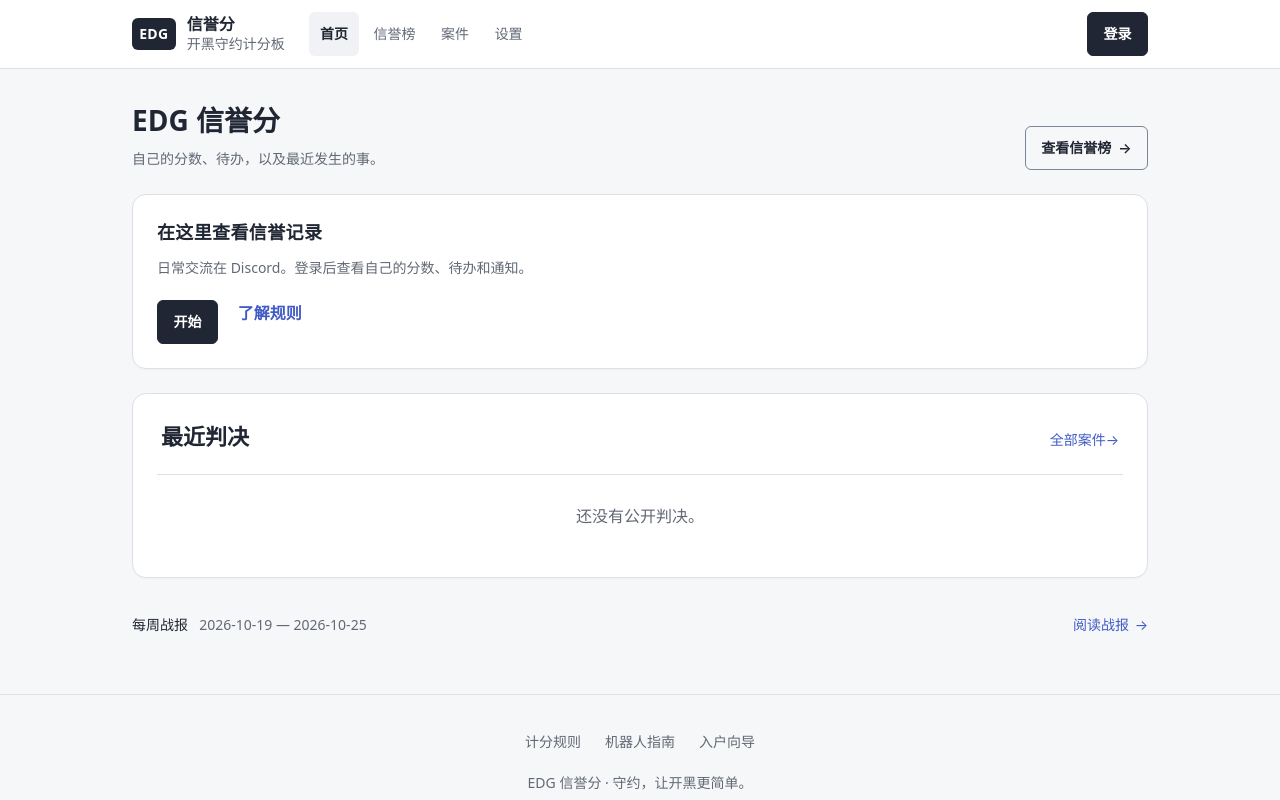
Test case: App — separated overview and board › 了解规则 opens the rules destination and focuses its title
The image size is (1280, 800).
What coordinates should you click on to do the following:
click the link "了解规则"
I would click on:
 (270, 313)
Its box is top-left (238, 302), bottom-right (302, 324).
(page scrolled)
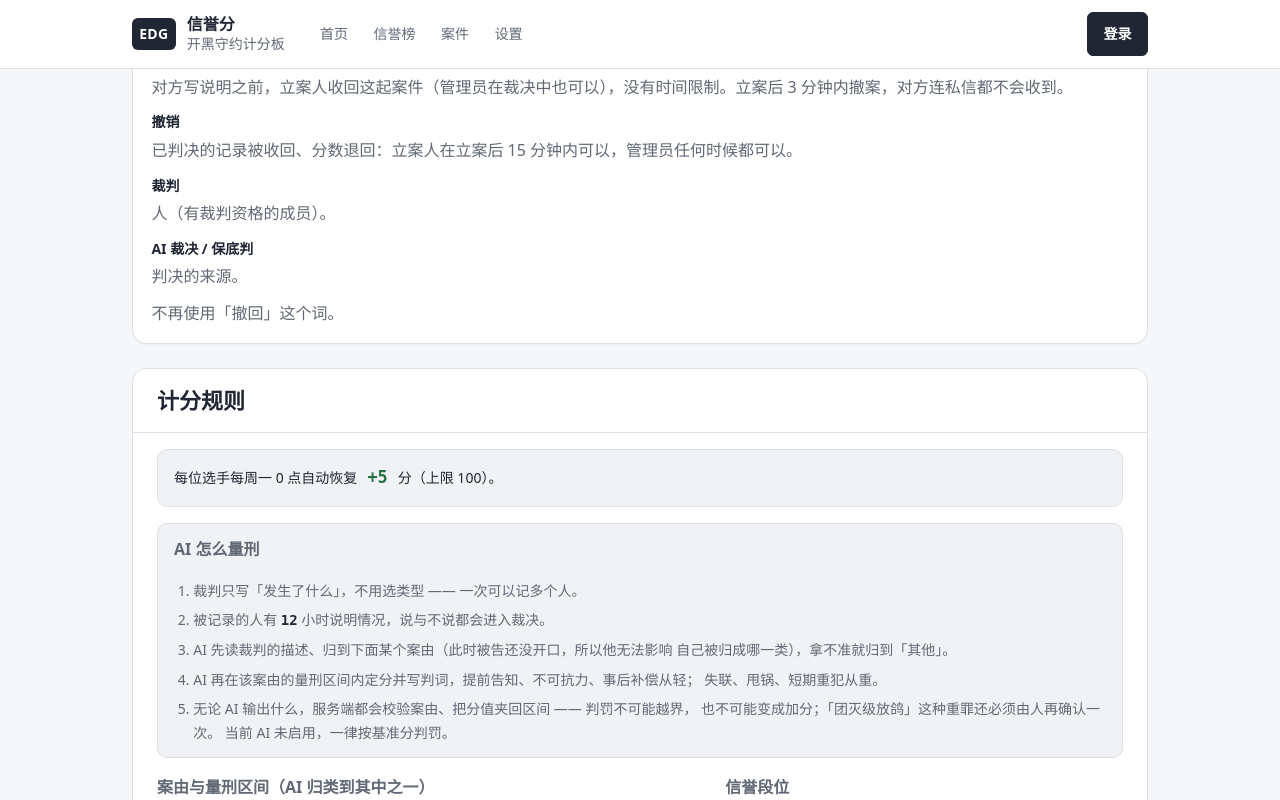
Now the heading "计分规则" is shown, box top-left (157, 385), bottom-right (245, 415)
